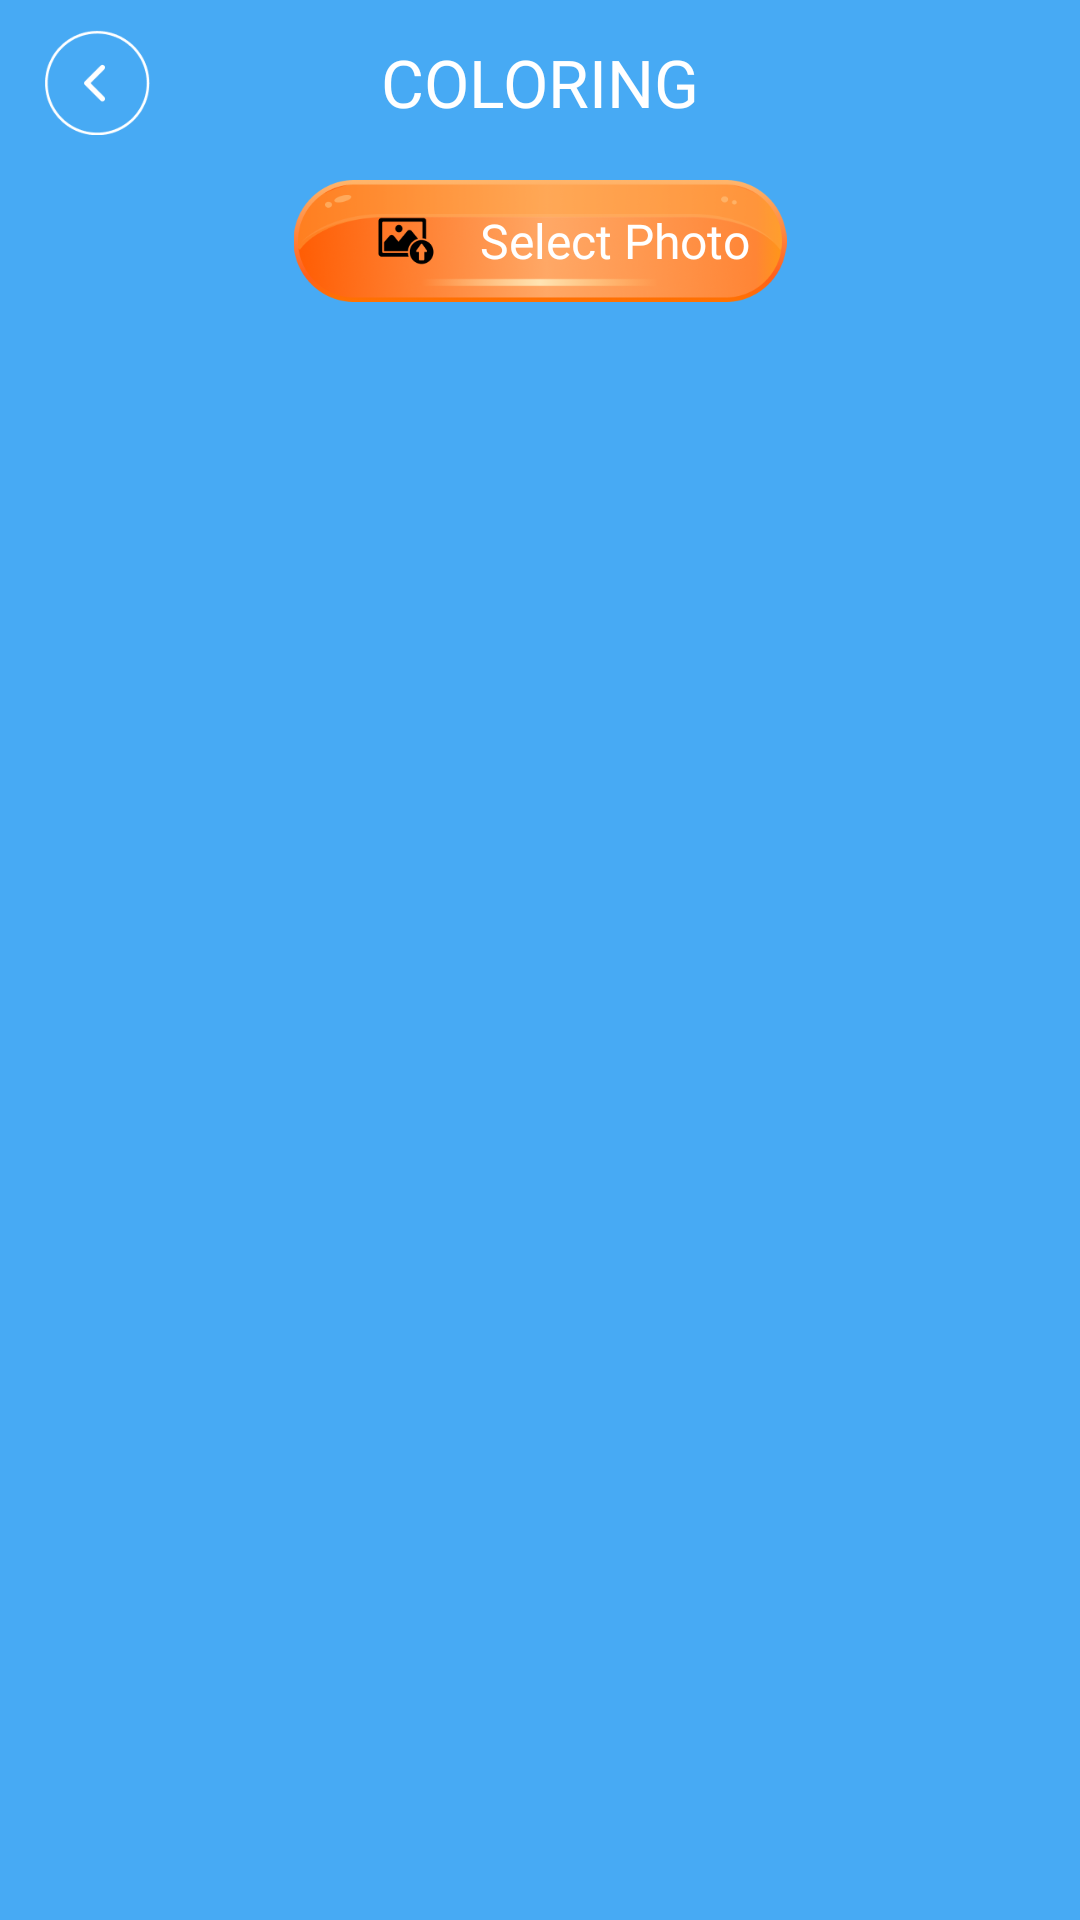

Named icons in this screenshot (1080px×1920px) and their bounding boxes, box(x1, y1, x2, y2):
back: box(45, 31, 150, 135)
